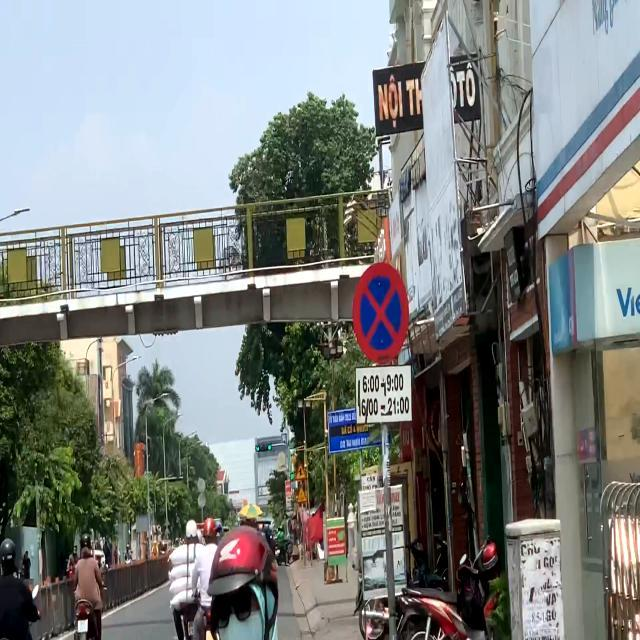Cam dung xe va do xe: (351, 258, 411, 371)
